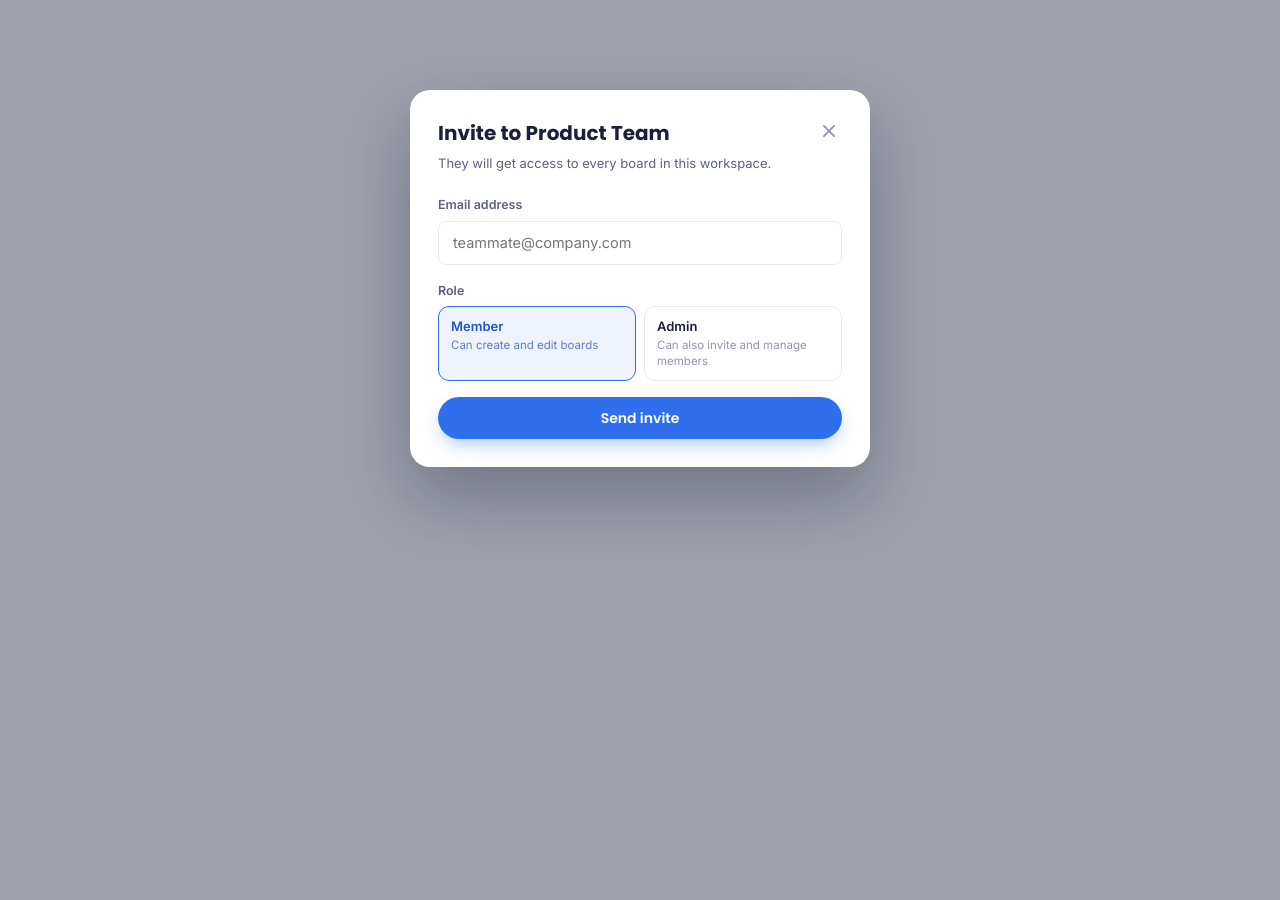
Test: InviteModal › shows the server error message when the invite is rejected
The width and height of the screenshot is (1280, 900).
Type "existing@example.com" into the field labelled "Email address" at [640, 242], box [438, 220, 842, 264]
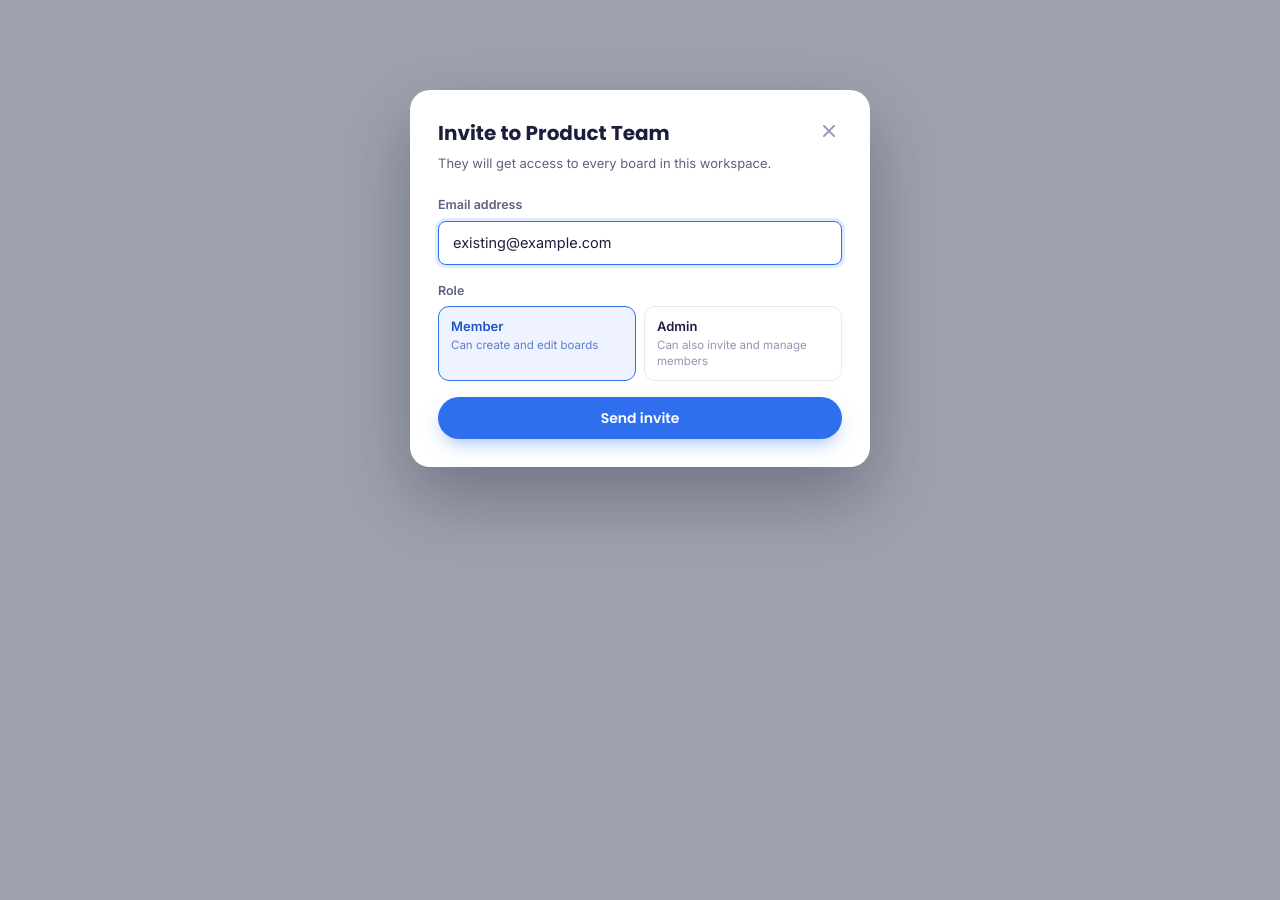
Click the button "Send invite" at [640, 418], box [438, 397, 842, 439]
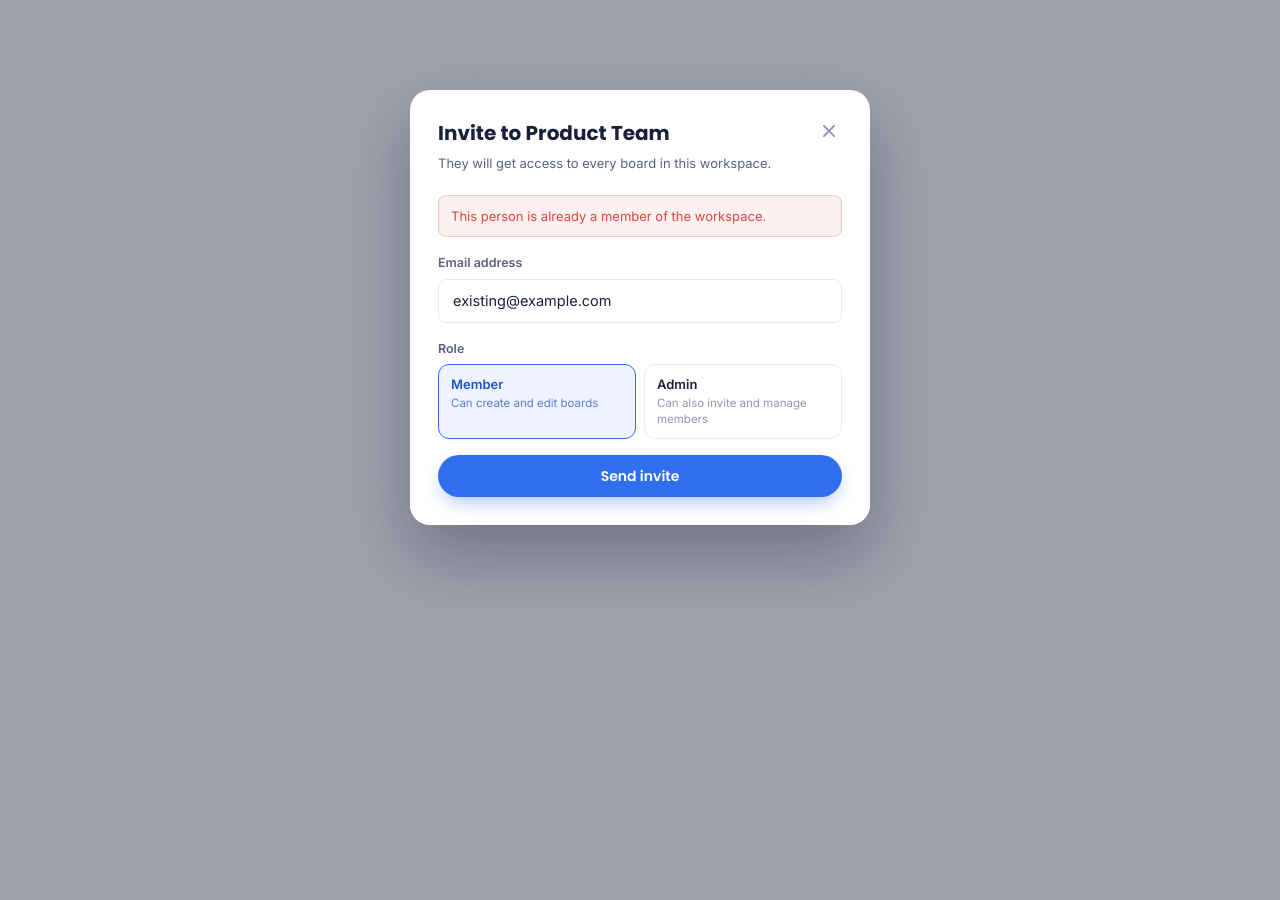
Check: the text "This person is already a member of the workspace." is shown, box [438, 195, 842, 237]
